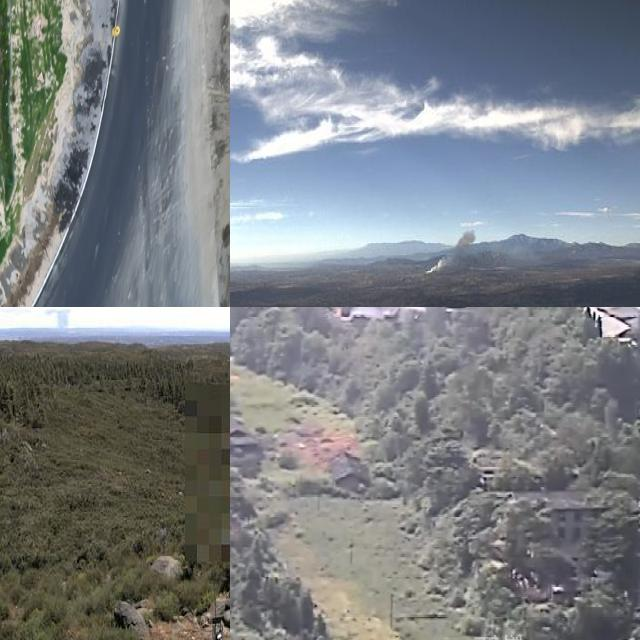smoke: (422, 224, 480, 275), (41, 307, 75, 330)
